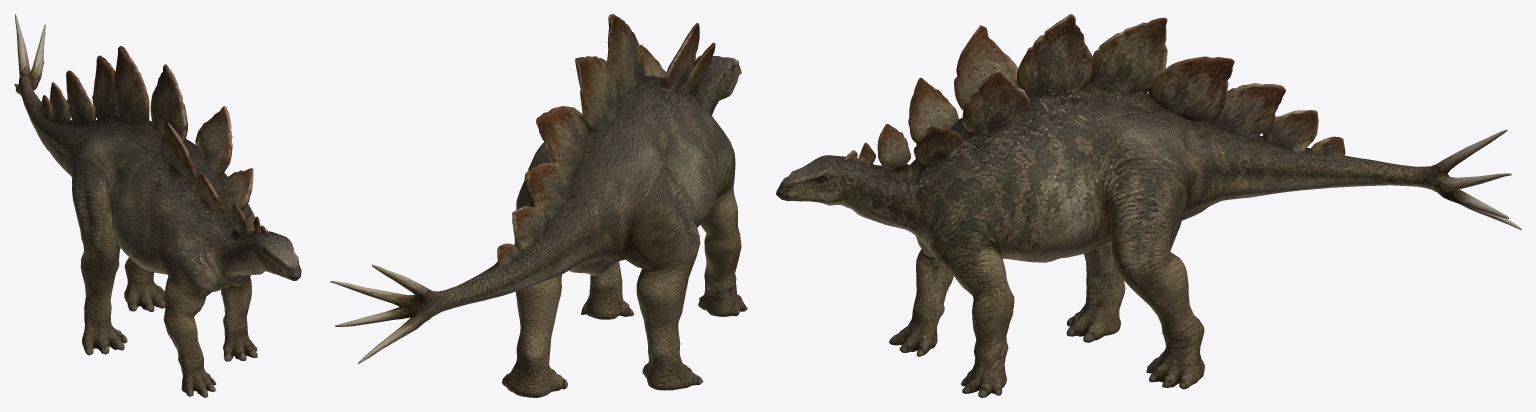
The model's file is stegosaurus.glb.
3 views of the same model, side by side, from view 1: azimuth 30°, elevation 25°; view 2: azimuth 150°, elevation 25°; view 3: azimuth 270°, elevation 25° (orthographic). The views are drawn at different scales.
Visible parts, largest first — view 1: dino; view 2: dino; view 3: dino.
Part boxes in pixels (x1,y1,x2,y2): dino: (14, 14, 301, 397); dino: (330, 14, 747, 397); dino: (776, 14, 1521, 397).
Size of the model in its own units: 2.35 by 4.67 by 9.
1 material, 1 textured.
